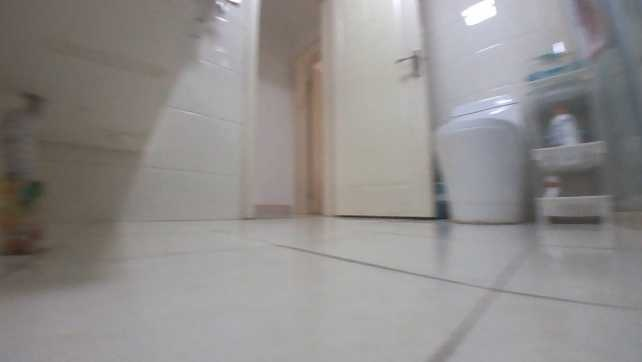door_anno: (318, 0, 435, 219)
toilet: (427, 94, 528, 223)
